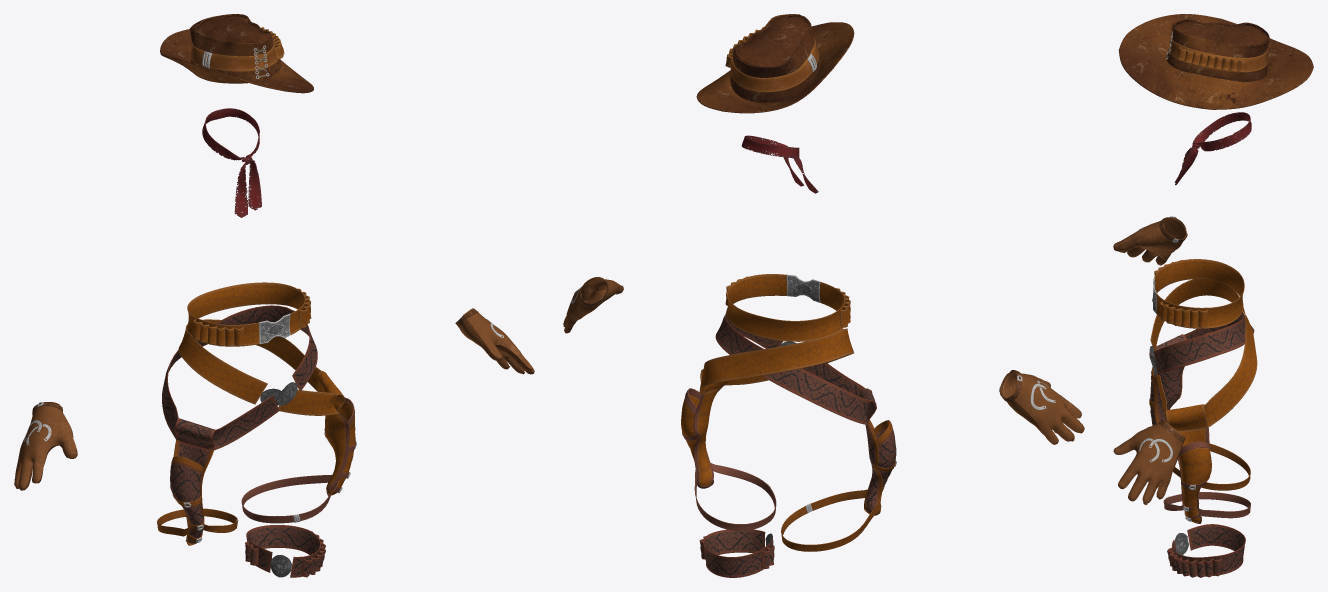
The model's file is western_cowboy_accessories.fbx.
The picture shows the model from 3 angles, left to right: view 1: azimuth 30°, elevation 25°; view 2: azimuth 150°, elevation 25°; view 3: azimuth 270°, elevation 25°; orthographic projection. The views are drawn at different scales.
Parts seen in each view (by area): view 1: western_cowboy_accessories; view 2: western_cowboy_accessories; view 3: western_cowboy_accessories.
Boxes of the visible parts, <box> form: western_cowboy_accessories: <box>14,14,534,577</box>; western_cowboy_accessories: <box>563,14,1084,577</box>; western_cowboy_accessories: <box>1113,14,1313,577</box>.
Size of the model in its own units: 118 by 120 by 41.74.
